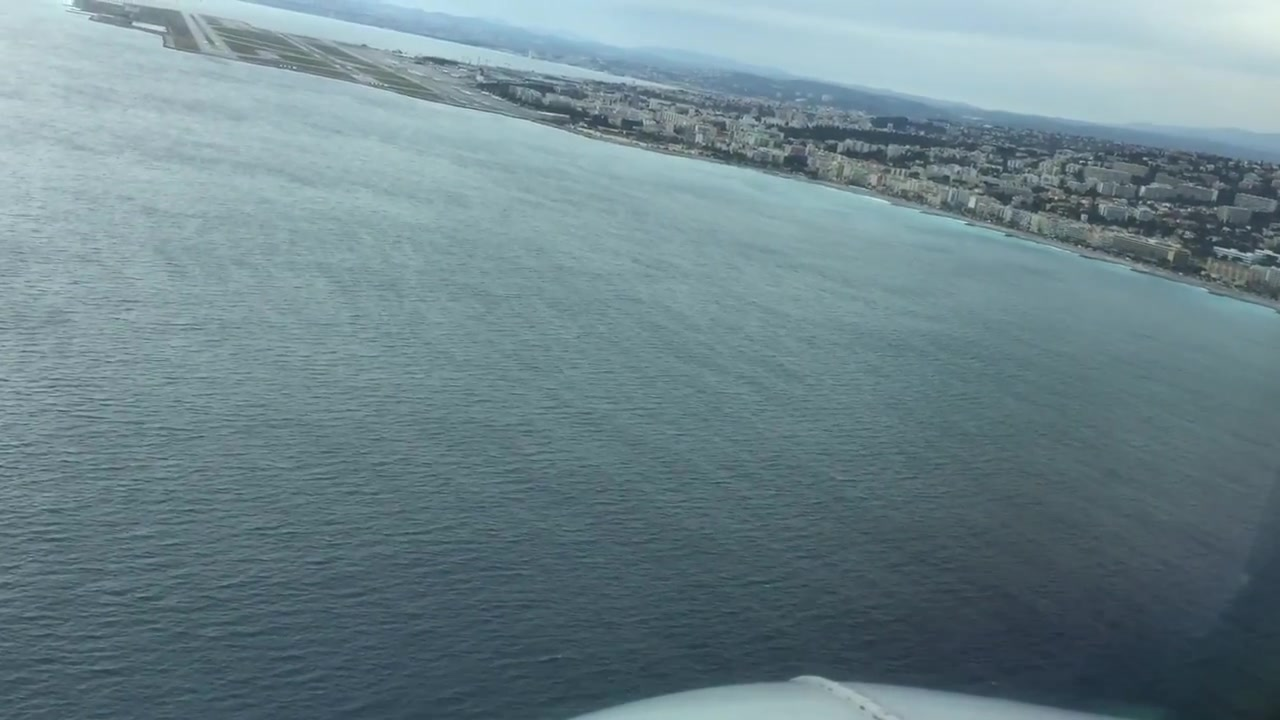runway: (271, 29, 386, 87), (179, 8, 237, 60)
